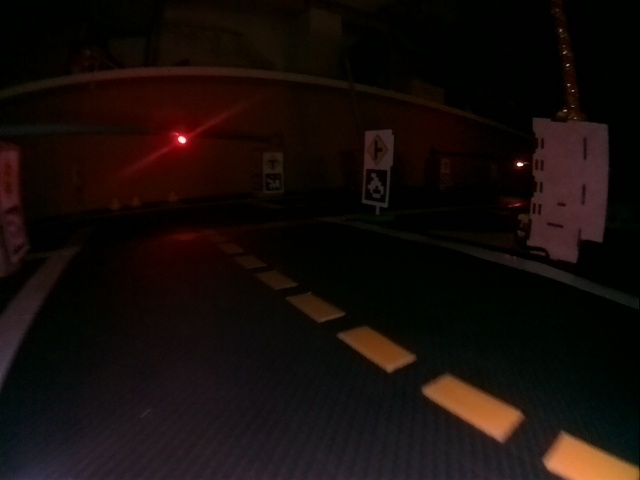Duckie: (168, 193, 178, 203), (110, 200, 120, 209), (132, 198, 141, 206)
Intersection sign: (366, 133, 388, 164), (265, 154, 281, 172)
QR code: (364, 169, 387, 202), (264, 173, 282, 192)
Traffic light: (174, 130, 188, 146)
